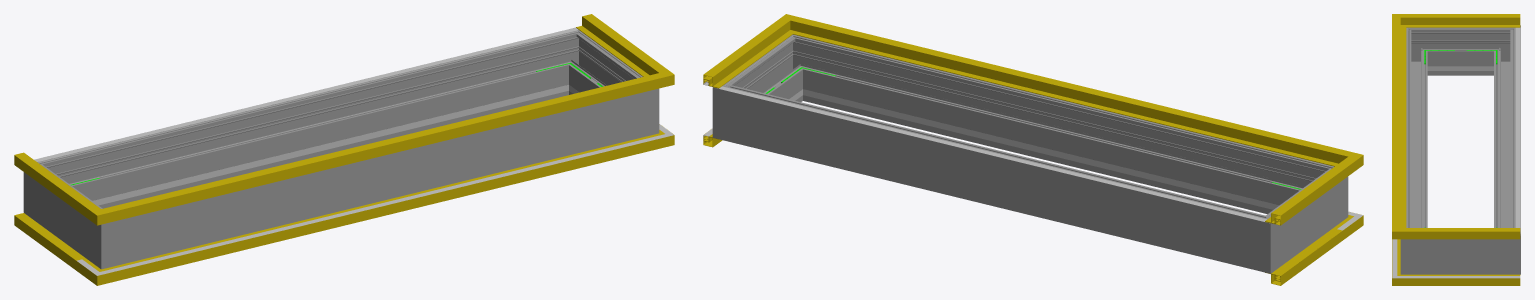
3 views of the same model, side by side, from view 1: azimuth 30°, elevation 25°; view 2: azimuth 150°, elevation 25°; view 3: azimuth 270°, elevation 25° (orthographic). The views are drawn at different scales.
Visible parts, largest first — view 1: 3DGeom-276, 3DGeom-298, 3DGeom-123, 3DGeom-11, 3DGeom-244, 3DGeom-270, 3DGeom-220, 3DGeom-20, 3DGeom-284, 3DGeom-290, 3DGeom-128, 3DGeom-268 (+8 smaller); view 2: 3DGeom-298, 3DGeom-276, 3DGeom-123, 3DGeom-278, 3DGeom-239, 3DGeom-284, 3DGeom-220, 3DGeom-290, 3DGeom-297, 3DGeom-128, 3DGeom-268, 3DGeom-118 (+4 smaller); view 3: 3DGeom-276, 3DGeom-298, 3DGeom-123, 3DGeom-268, 3DGeom-297, 3DGeom-118, 3DGeom-284, 3DGeom-290, 3DGeom-220, 3DGeom-128, 3DGeom-278, 3DGeom-16 (+10 smaller).
Part boxes in pixels (x1=…): 3DGeom-276: x1=63, y1=37, x2=562, y2=208; 3DGeom-298: x1=137, y1=97, x2=623, y2=260; 3DGeom-123: x1=128, y1=79, x2=638, y2=216; 3DGeom-11: x1=128, y1=140, x2=638, y2=276; 3DGeom-244: x1=106, y1=93, x2=533, y2=203; 3DGeom-270: x1=80, y1=201, x2=137, y2=269; 3DGeom-220: x1=34, y1=27, x2=578, y2=162; 3DGeom-20: x1=130, y1=141, x2=637, y2=266; 3DGeom-284: x1=549, y1=30, x2=596, y2=96; 3DGeom-290: x1=623, y1=69, x2=659, y2=141; 3DGeom-128: x1=576, y1=14, x2=653, y2=72; 3DGeom-268: x1=44, y1=174, x2=91, y2=253; 3DGeom-298: x1=809, y1=42, x2=1308, y2=213; 3DGeom-276: x1=748, y1=91, x2=1240, y2=264; 3DGeom-123: x1=813, y1=23, x2=1327, y2=162; 3DGeom-278: x1=1234, y1=205, x2=1291, y2=273; 3DGeom-239: x1=838, y1=97, x2=1265, y2=207; 3DGeom-284: x1=712, y1=73, x2=755, y2=146; 3DGeom-220: x1=718, y1=86, x2=1266, y2=221; 3DGeom-290: x1=775, y1=34, x2=822, y2=102; 3DGeom-297: x1=739, y1=47, x2=799, y2=101; 3DGeom-128: x1=703, y1=29, x2=780, y2=88; 3DGeom-268: x1=1280, y1=179, x2=1327, y2=257; 3DGeom-118: x1=1265, y1=168, x2=1342, y2=225; 3DGeom-276: x1=1494, y1=39, x2=1520, y2=227; 3DGeom-298: x1=1406, y1=39, x2=1427, y2=227; 3DGeom-123: x1=1392, y1=27, x2=1406, y2=225; 3DGeom-268: x1=1433, y1=27, x2=1488, y2=75; 3DGeom-297: x1=1433, y1=239, x2=1488, y2=274; 3DGeom-118: x1=1424, y1=14, x2=1520, y2=27; 3DGeom-284: x1=1488, y1=222, x2=1520, y2=274; 3DGeom-290: x1=1400, y1=222, x2=1432, y2=274; 3DGeom-220: x1=1515, y1=27, x2=1520, y2=233; 3DGeom-128: x1=1424, y1=228, x2=1520, y2=239; 3DGeom-278: x1=1488, y1=25, x2=1520, y2=75; 3DGeom-16: x1=1424, y1=274, x2=1520, y2=285.
Bounding box in the file's own units: 2.44 × 0.2836 × 0.6096.
